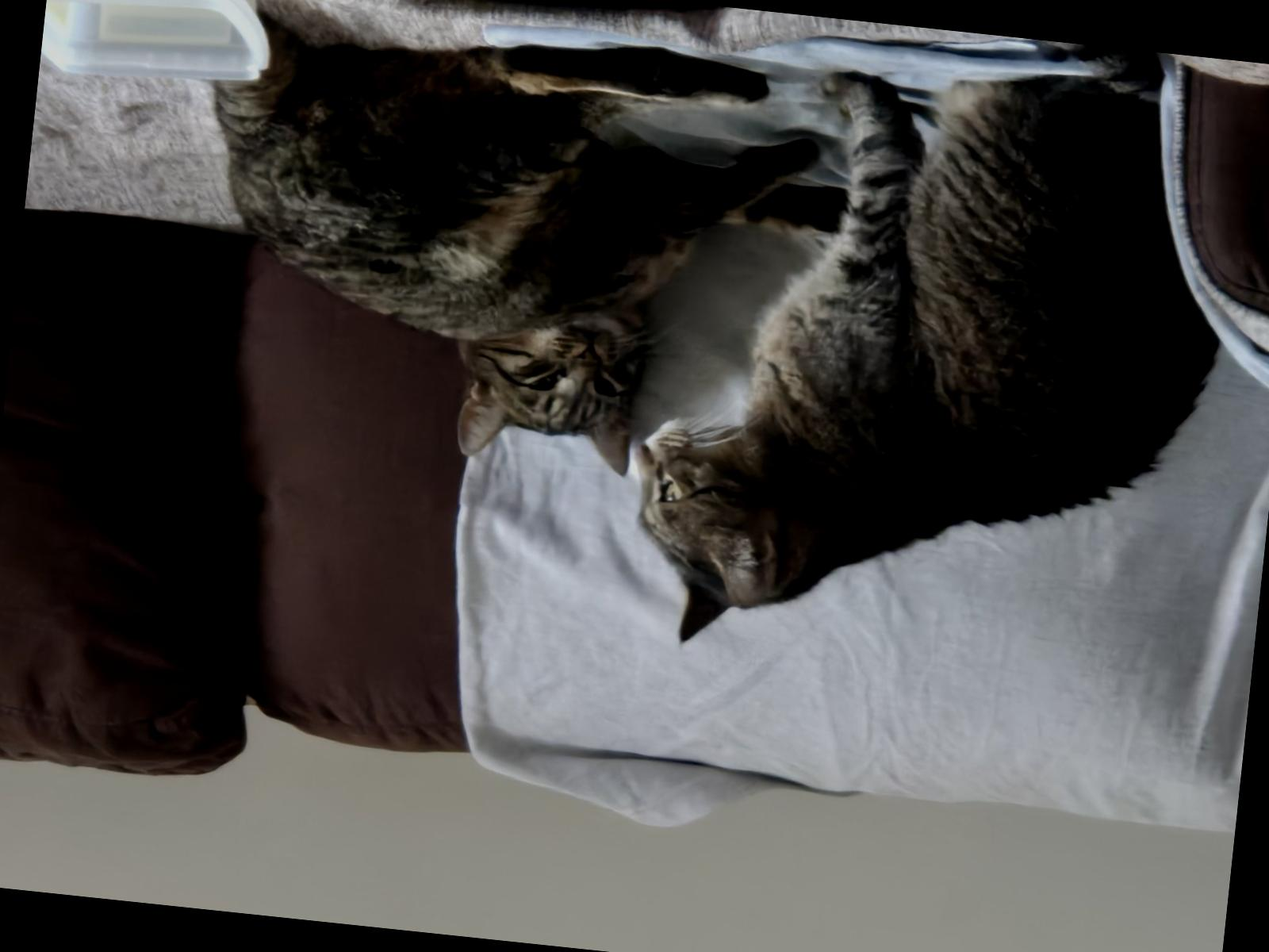macka: (615, 33, 1251, 693), (177, 4, 856, 497)
